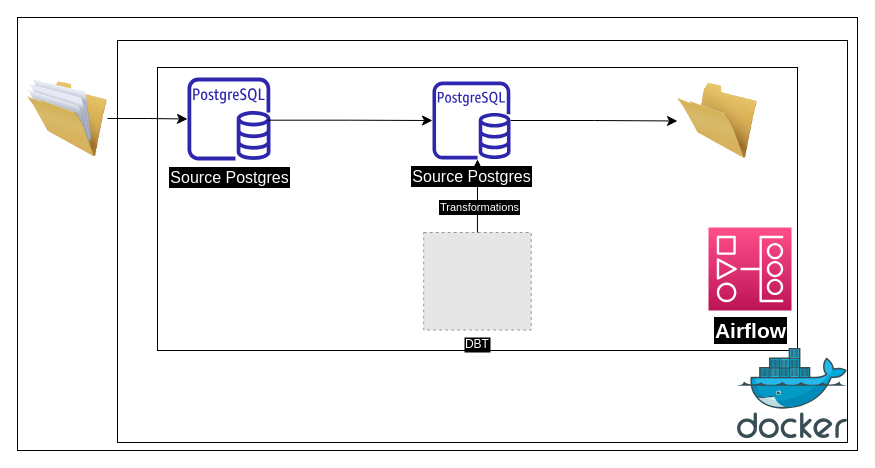
Some shapes in this 875 by 468 pixel diagram are drawn without their labels. Grey dashed boxes stand in for pictures. Here are the shapes that lost their labels. From the top down, the centre of each, then its label:
At pixel 67 118: "Source Folder".
At pixel 717 120: "Destination folder".
